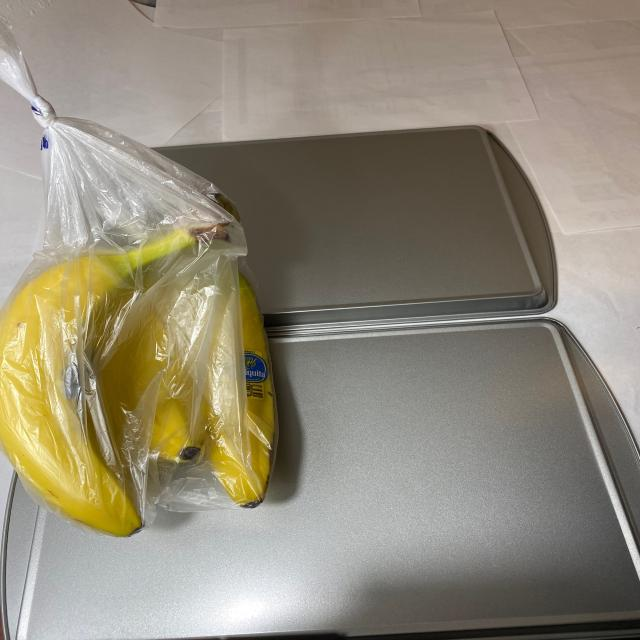banana: (2, 185, 291, 543)
